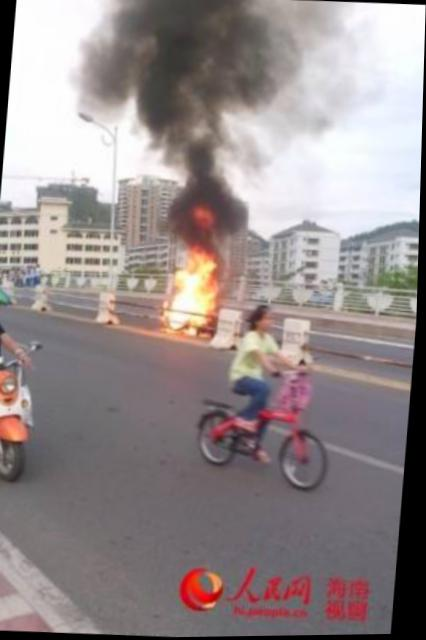fire: (162, 216, 227, 338)
